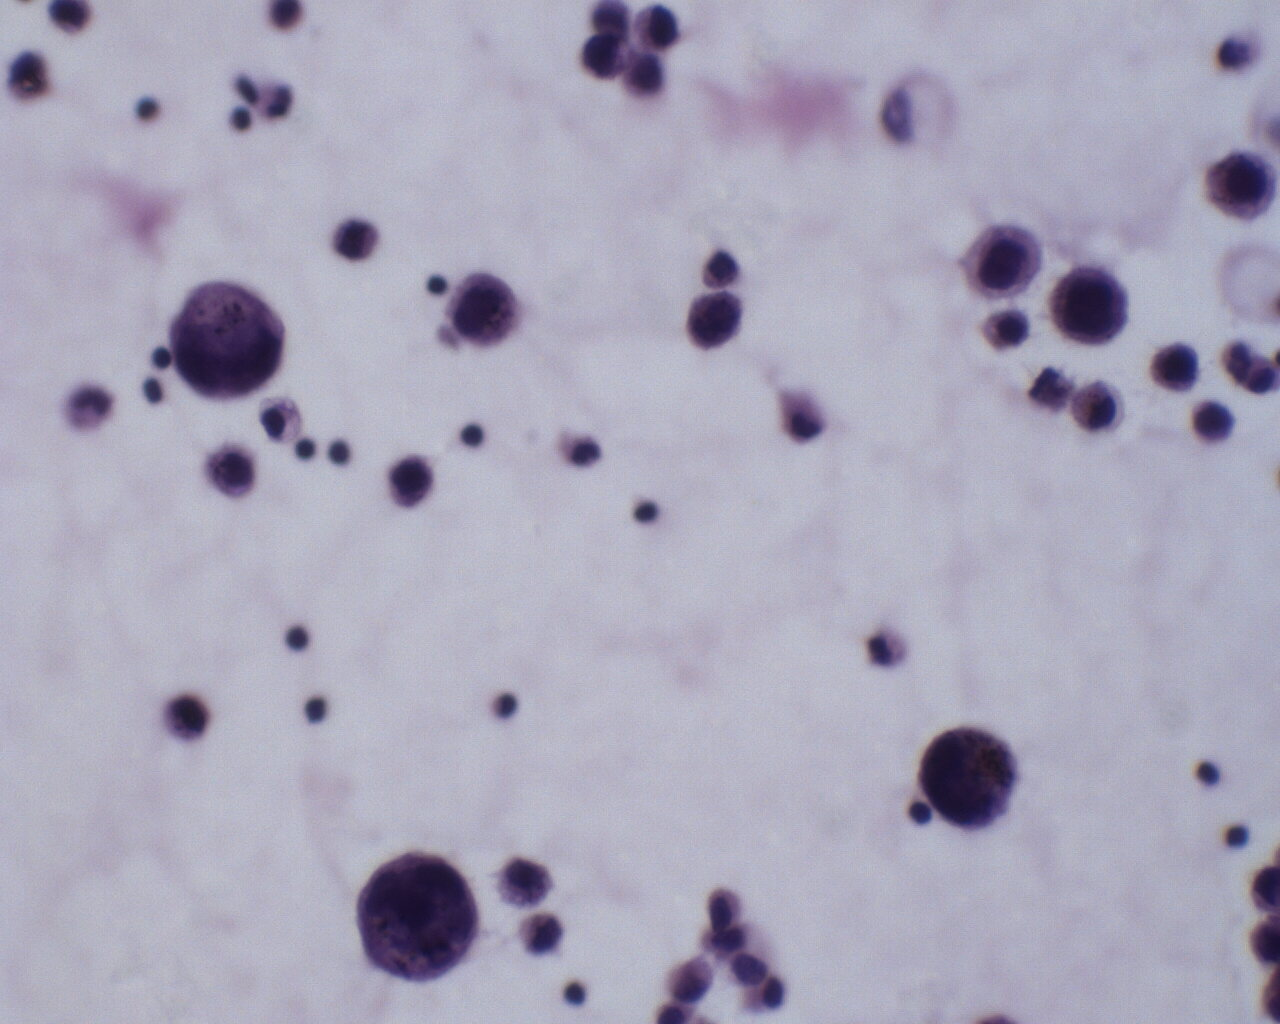ab: (354, 845, 479, 987), (172, 275, 286, 403), (920, 726, 1023, 830), (1046, 260, 1135, 347), (959, 222, 1044, 304), (440, 267, 520, 347), (1201, 146, 1277, 223), (678, 289, 746, 352), (1148, 339, 1204, 392)
